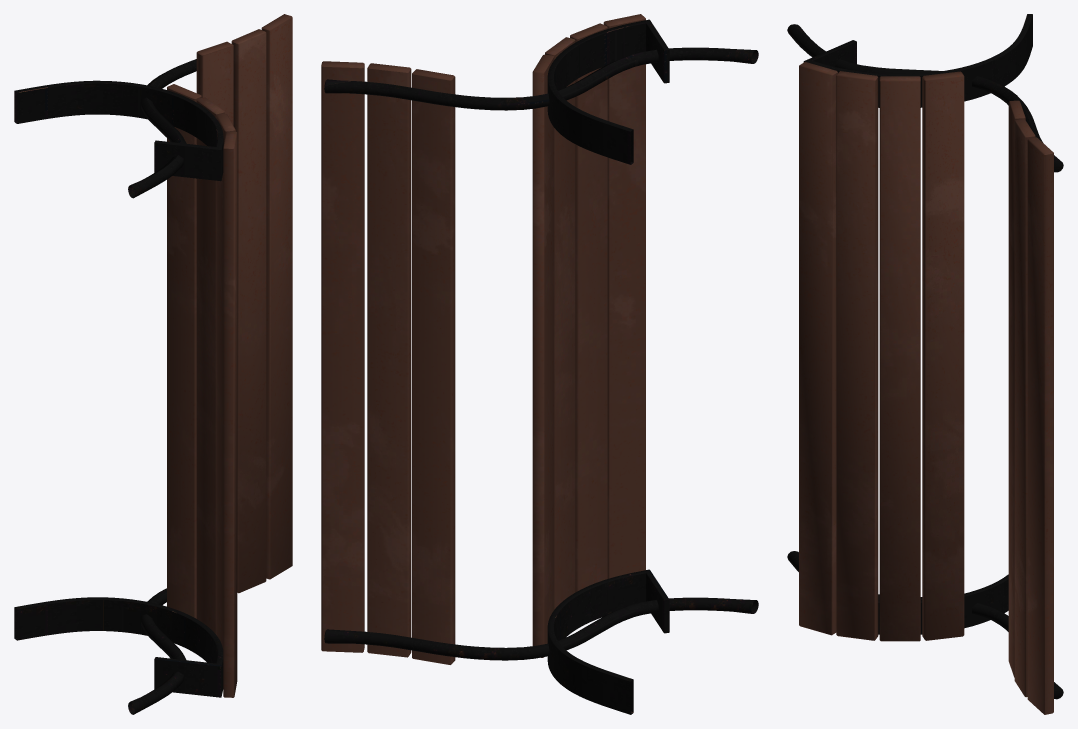
The model's file is cP_Bench01.dae.
3 views of the same model, side by side, from view 1: azimuth 30°, elevation 25°; view 2: azimuth 150°, elevation 25°; view 3: azimuth 270°, elevation 25° (orthographic). The views are drawn at different scales.
Parts seen in each view (by area): view 1: cP_Bench01.001; view 2: cP_Bench01.001; view 3: cP_Bench01.001.
Boxes of the visible parts, x1=… form: cP_Bench01.001: x1=14, y1=14, x2=292, y2=714; cP_Bench01.001: x1=321, y1=14, x2=758, y2=714; cP_Bench01.001: x1=787, y1=14, x2=1063, y2=714.
Size of the model in its own units: 1.27 by 1.05 by 2.35.
